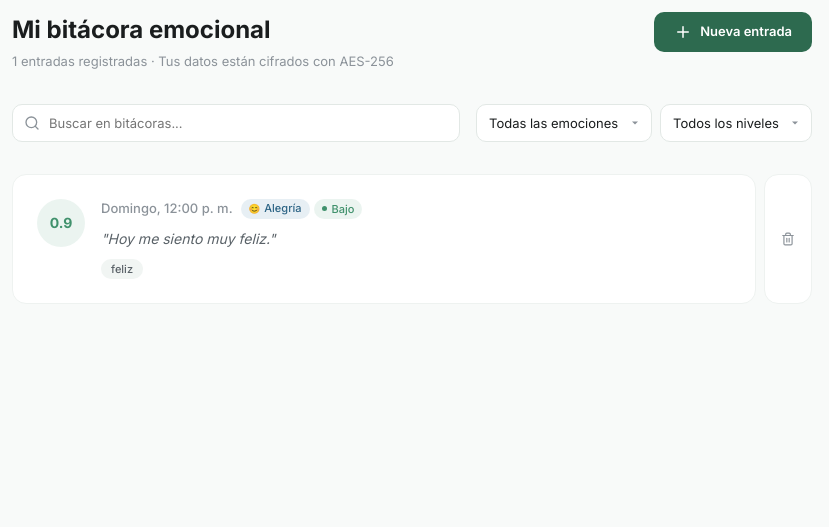
Test: JournalPage Component › allows deleting an entry
The width and height of the screenshot is (829, 527).
Expected: the text "\"Hoy me siento muy feliz.\"" is shown, [101, 230, 275, 247]
# Click delete button
Click the button titled "Eliminar entrada" at (788, 239), box [764, 174, 812, 304]
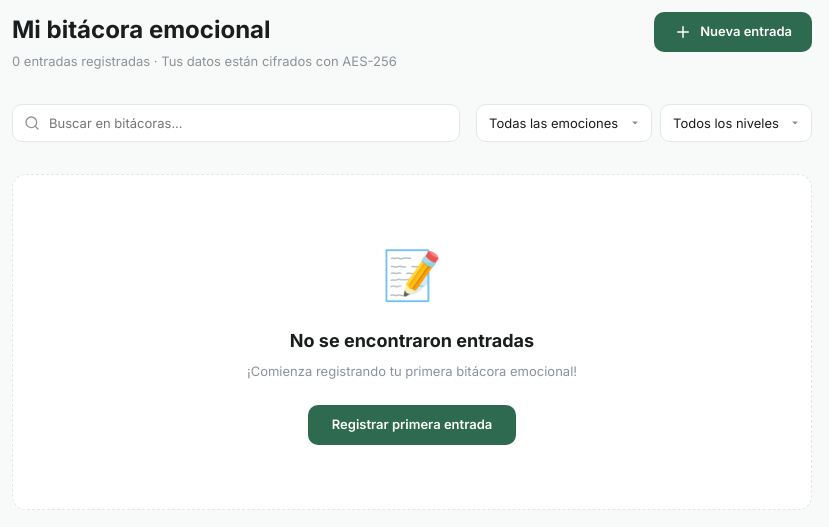
Result: the button "Hoy me siento muy feliz" is gone
